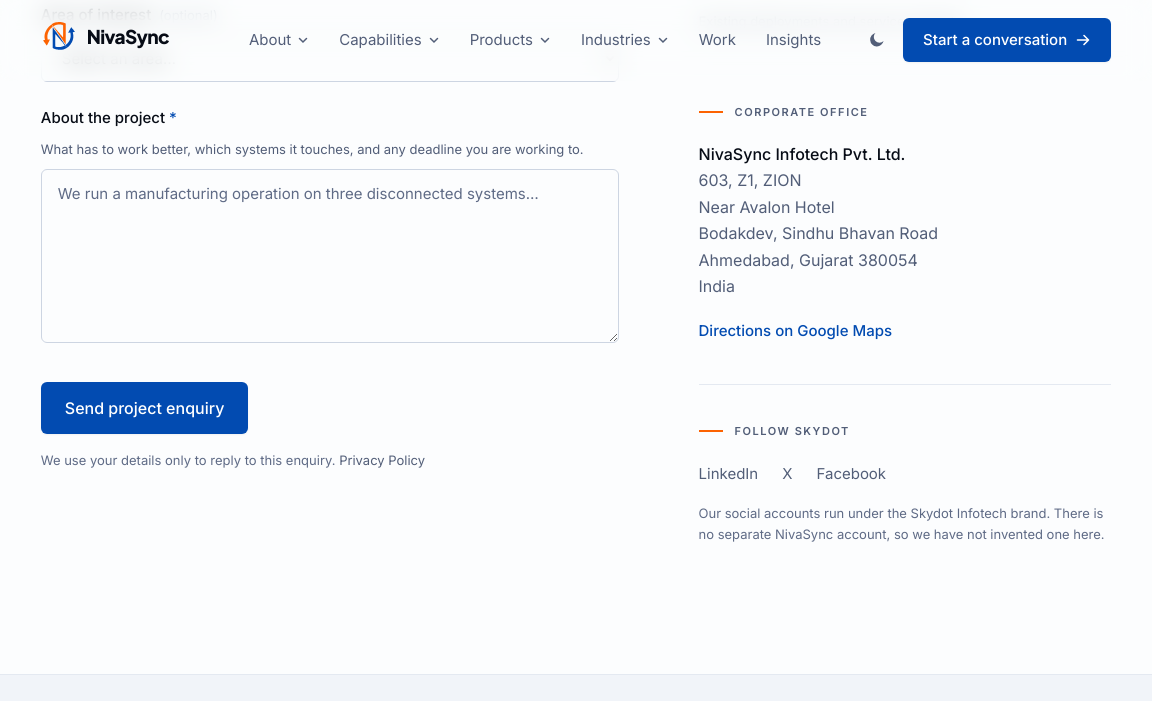
contact form behaviour › shows accessible errors and does not submit when invalid
(page scrolled)
Step 1. Click the button "Send project enquiry" → point(145, 408), box 41,382 -> 248,434
(page scrolled)
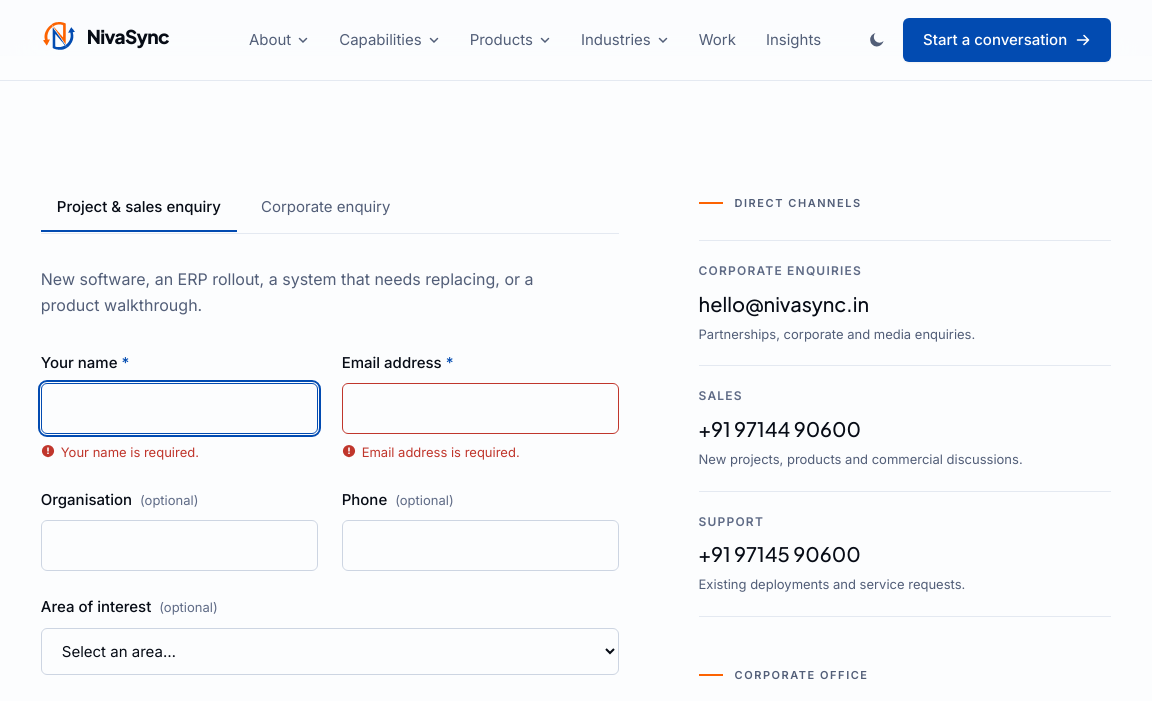
Expected: the text "Your name is required." is shown, 41,444 -> 199,460
